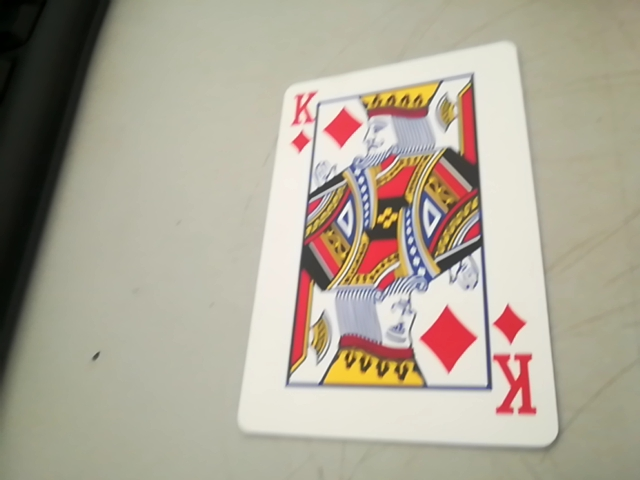fk k: (492, 300, 535, 425), (279, 83, 319, 152)
